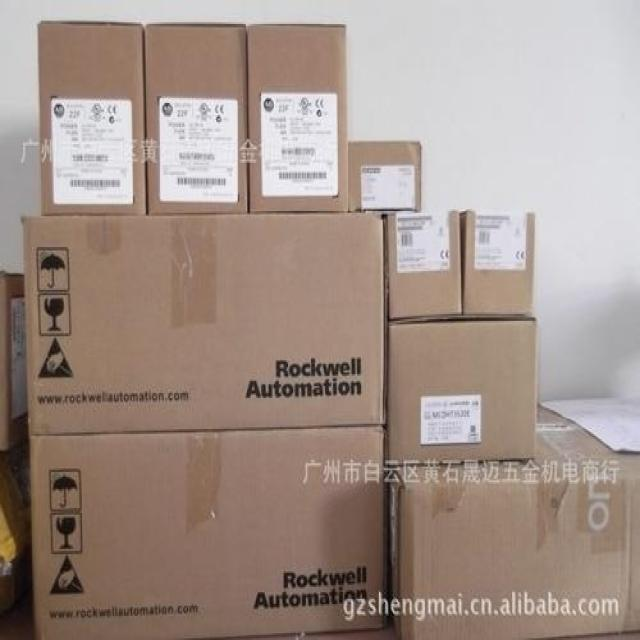box: (23, 211, 388, 439), (31, 426, 393, 640), (388, 402, 640, 640), (385, 314, 539, 465), (38, 21, 146, 216), (145, 24, 250, 214), (247, 26, 347, 213), (384, 209, 463, 319), (460, 209, 536, 319), (347, 139, 422, 214), (0, 271, 29, 451)
